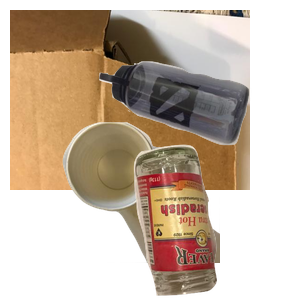cardboard: (10, 10, 250, 190)
glass: (131, 142, 300, 300)
plastic: (97, 59, 300, 197)
trash: (60, 120, 300, 300)
